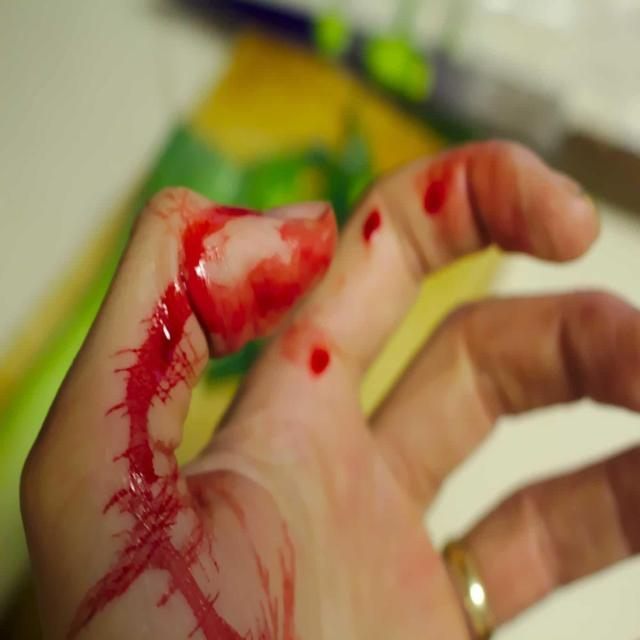flood: (107, 197, 332, 640)
